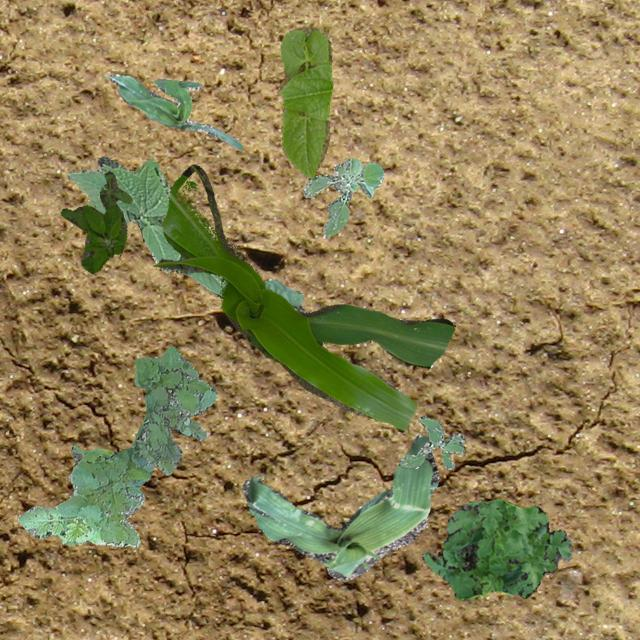crop: (153, 164, 454, 430), (242, 434, 438, 580), (66, 156, 226, 296), (108, 74, 242, 148), (278, 26, 332, 178), (263, 278, 305, 312)
weed: (17, 346, 215, 546), (420, 498, 570, 598), (60, 170, 130, 272), (302, 157, 383, 235), (398, 414, 463, 468)
